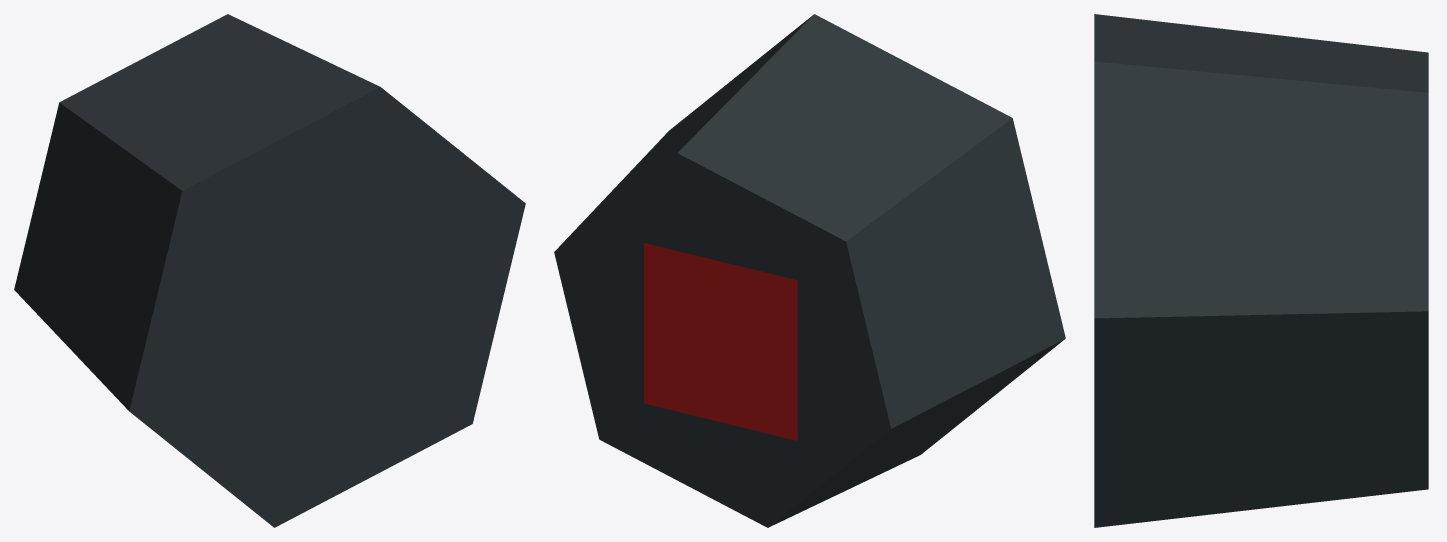
The picture shows the model from 3 angles, left to right: view 1: azimuth 30°, elevation 25°; view 2: azimuth 150°, elevation 25°; view 3: azimuth 270°, elevation 25°; orthographic projection. The views are drawn at different scales.
Visible parts, largest first — view 1: mount; view 2: mount; view 3: mount.
Part boxes in pixels (x1,y1,x2,y2): mount: (14, 14, 525, 527); mount: (554, 14, 1065, 527); mount: (1094, 14, 1428, 527).
Size of the model in its own units: 3.77 by 3.77 by 2.41.
